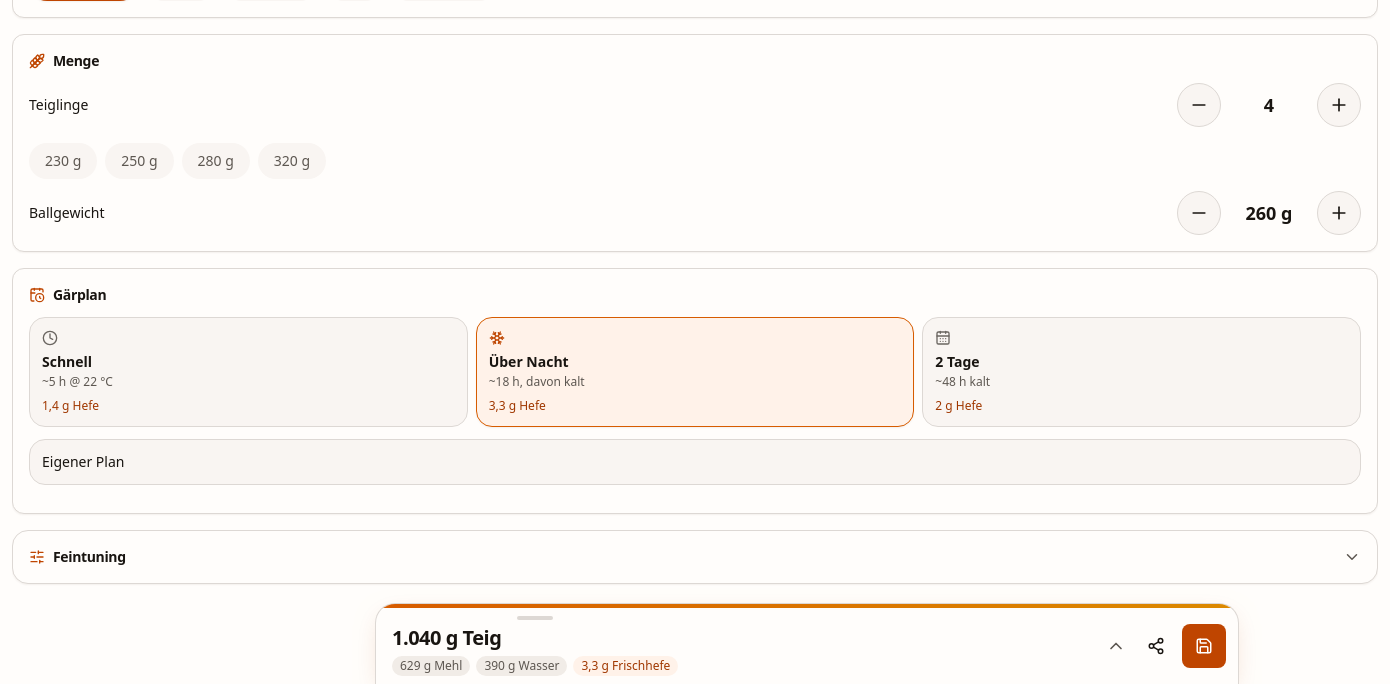
Test: CalculatorPage › shows the yeast with one decimal, even in the collapsed sheet
Expected: the text "3,3 g Frischhefe" is shown, [574,656,678,676]
Dry yeast is a third of that — must not round down to "0 g".
Click the button "Feintuning".
click(89, 556)  # box [13,531,1377,583]
(page scrolled)
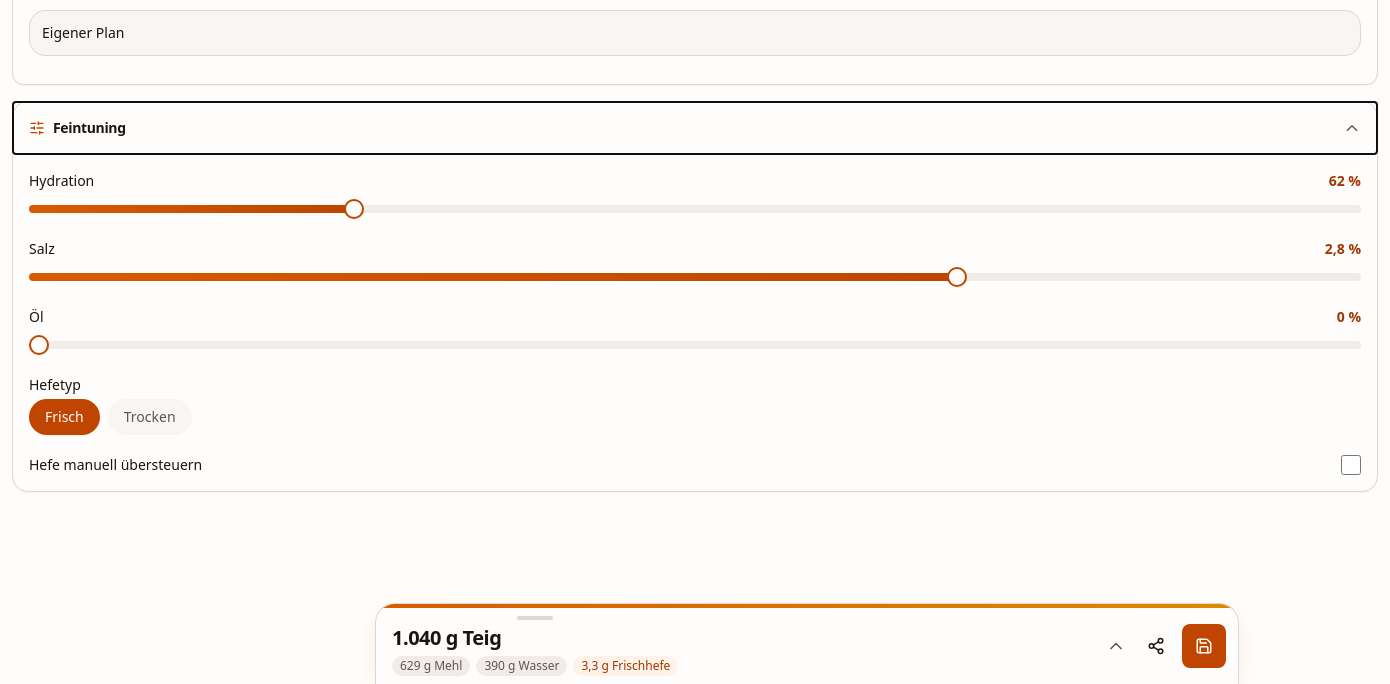
Click the button "Trocken".
click(150, 417)  # box [108,399,192,435]
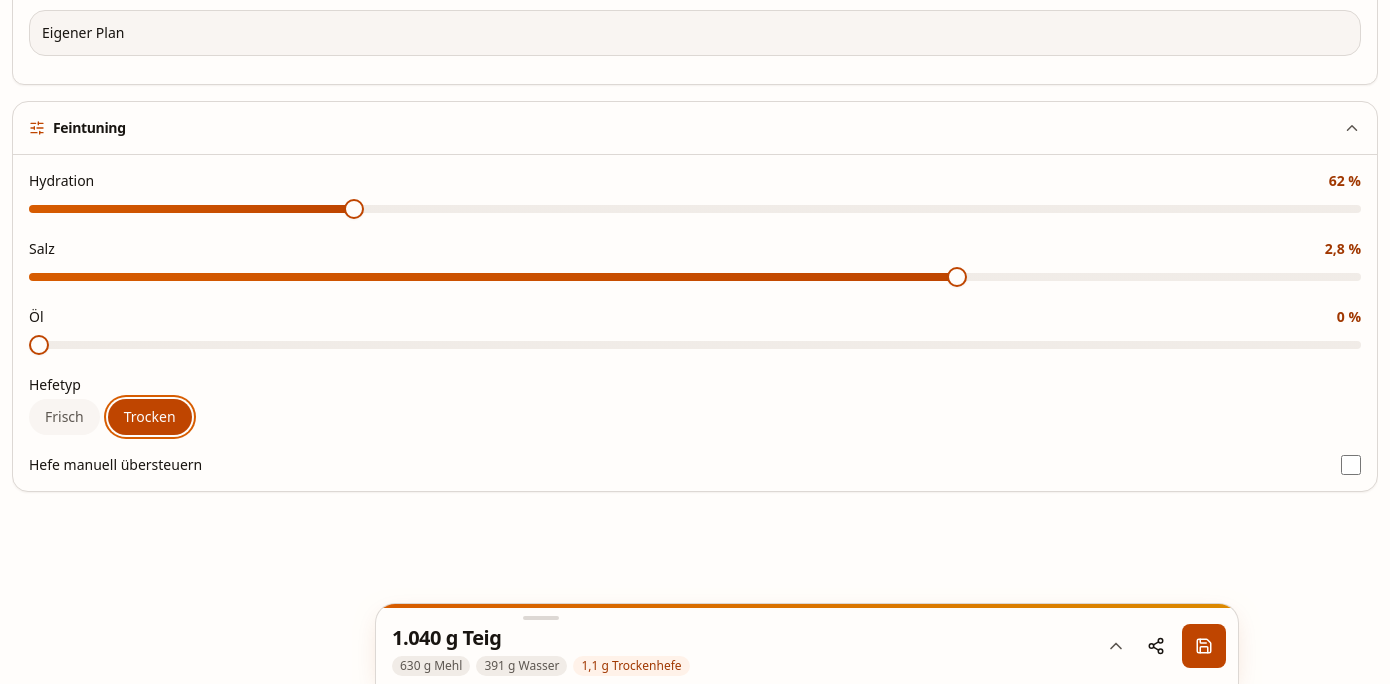
Expected: the text "1,1 g Trockenhefe" is shown, [574,656,690,676]
